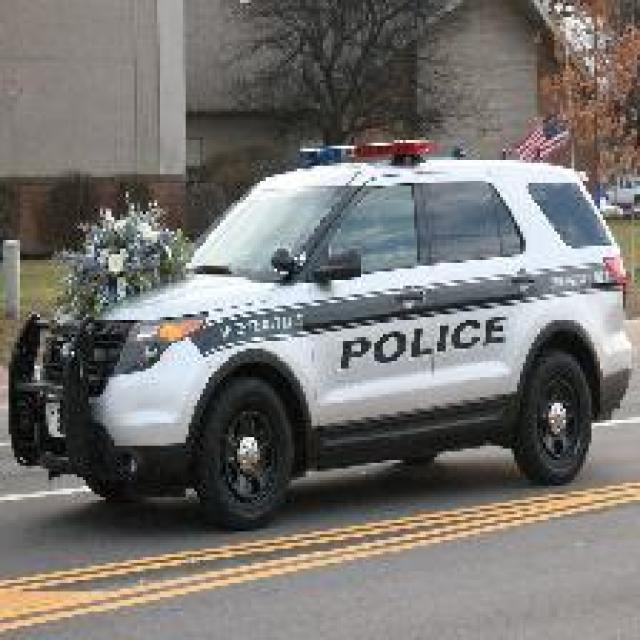fire_truck: (14, 137, 638, 525)
